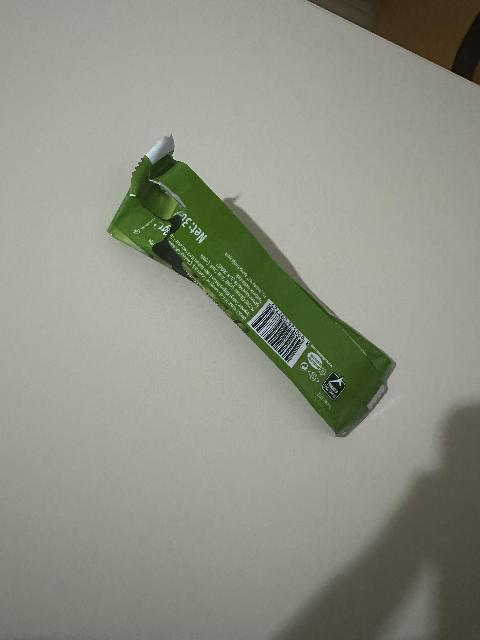Plastik: (103, 135, 394, 421)
